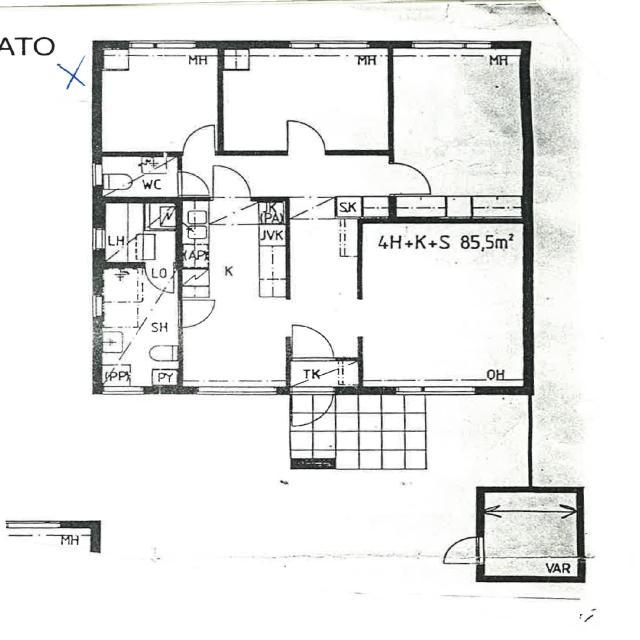door: (288, 361, 349, 414), (284, 320, 344, 361), (280, 115, 336, 157), (292, 385, 338, 430), (434, 532, 488, 568), (208, 162, 256, 202), (385, 160, 435, 198), (178, 118, 222, 158), (174, 295, 219, 331), (171, 168, 212, 200)
window: (185, 379, 280, 403), (282, 36, 376, 56), (388, 380, 478, 398), (402, 37, 497, 54), (122, 37, 203, 56), (5, 517, 61, 535), (100, 383, 150, 398), (88, 223, 110, 254), (88, 160, 107, 190), (90, 290, 107, 320)
zone: (358, 214, 527, 396), (390, 45, 527, 218), (181, 196, 289, 392), (224, 50, 388, 157), (97, 44, 222, 155), (98, 266, 182, 388), (480, 489, 581, 581), (97, 200, 182, 264), (96, 152, 184, 198), (286, 358, 362, 390)
